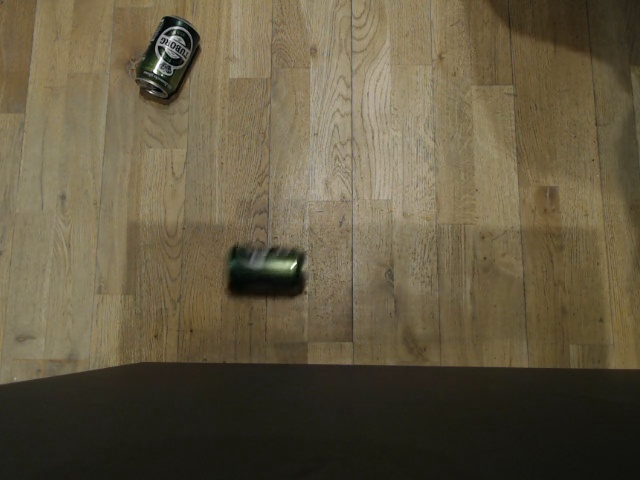beer: (132, 13, 202, 100), (221, 241, 308, 298)
